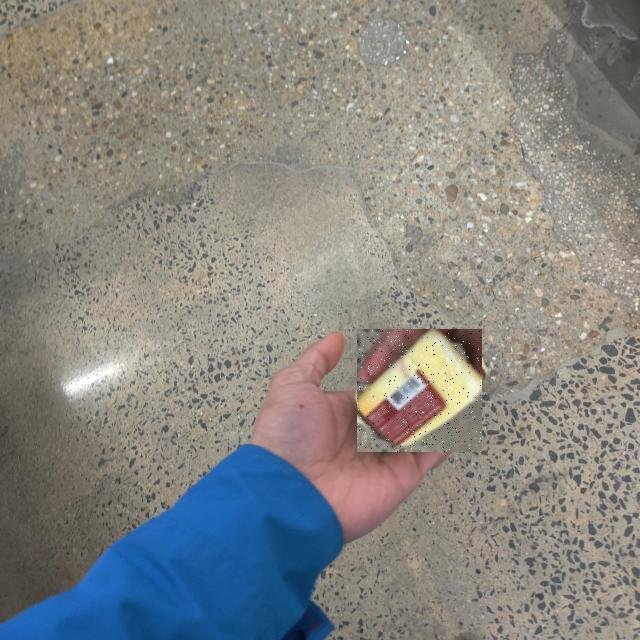Straw Berry: (357, 329, 482, 452)
